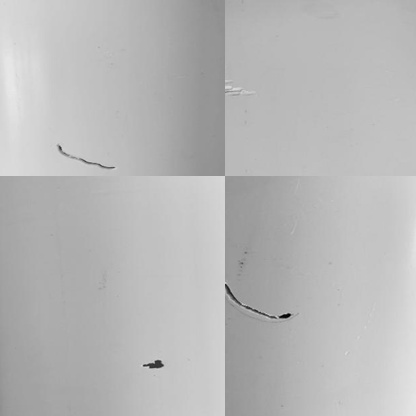fengxi: (222, 280, 297, 323), (56, 142, 115, 173)
kongdong: (141, 353, 166, 370)
sunshang: (225, 79, 255, 102)
